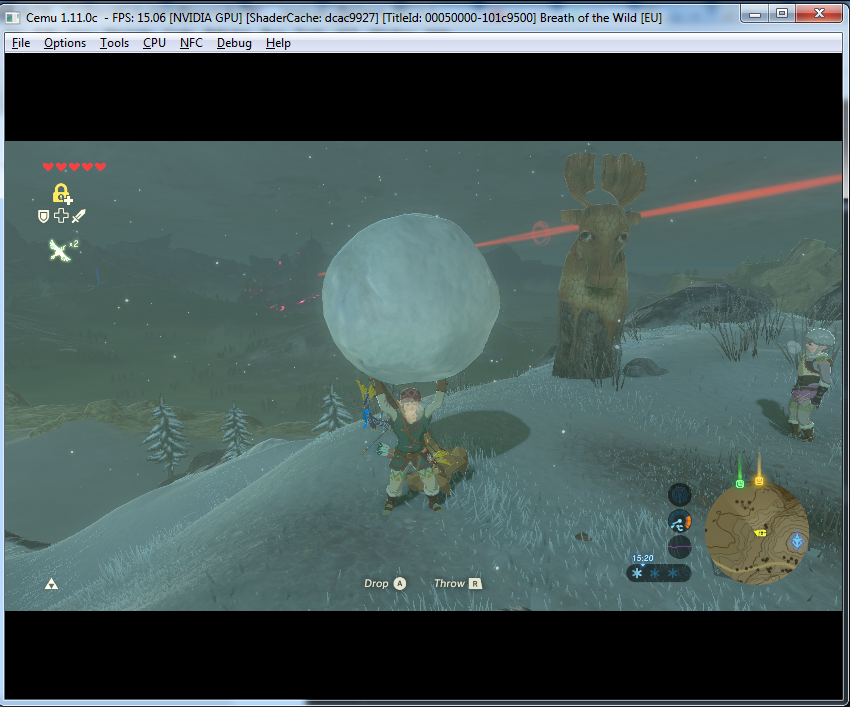dude: (767, 318, 837, 443)
link: (366, 375, 468, 515)
snowball: (315, 212, 502, 384)
totem: (549, 144, 635, 386)
